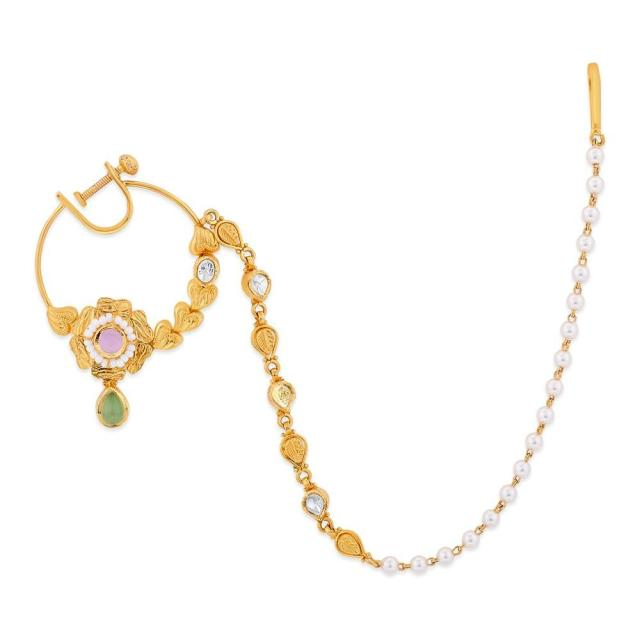missing gem: (271, 384, 292, 408)
